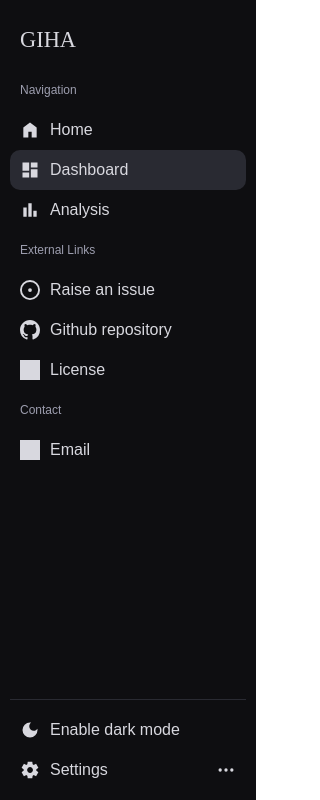
Test case: Sidebar Component › should change the dark mode state when the dark mode button is clicked
Click the element with test id "dark-mode-button" at (100, 730), box [20,720,180,740]
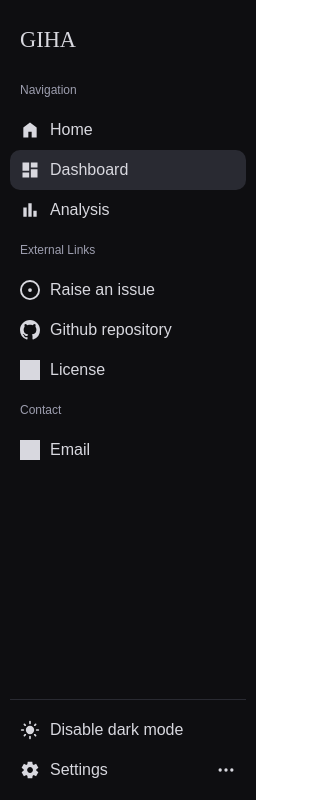
Expected: the element with test id "dark-mode-icon" is shown, [20,720,183,740]
